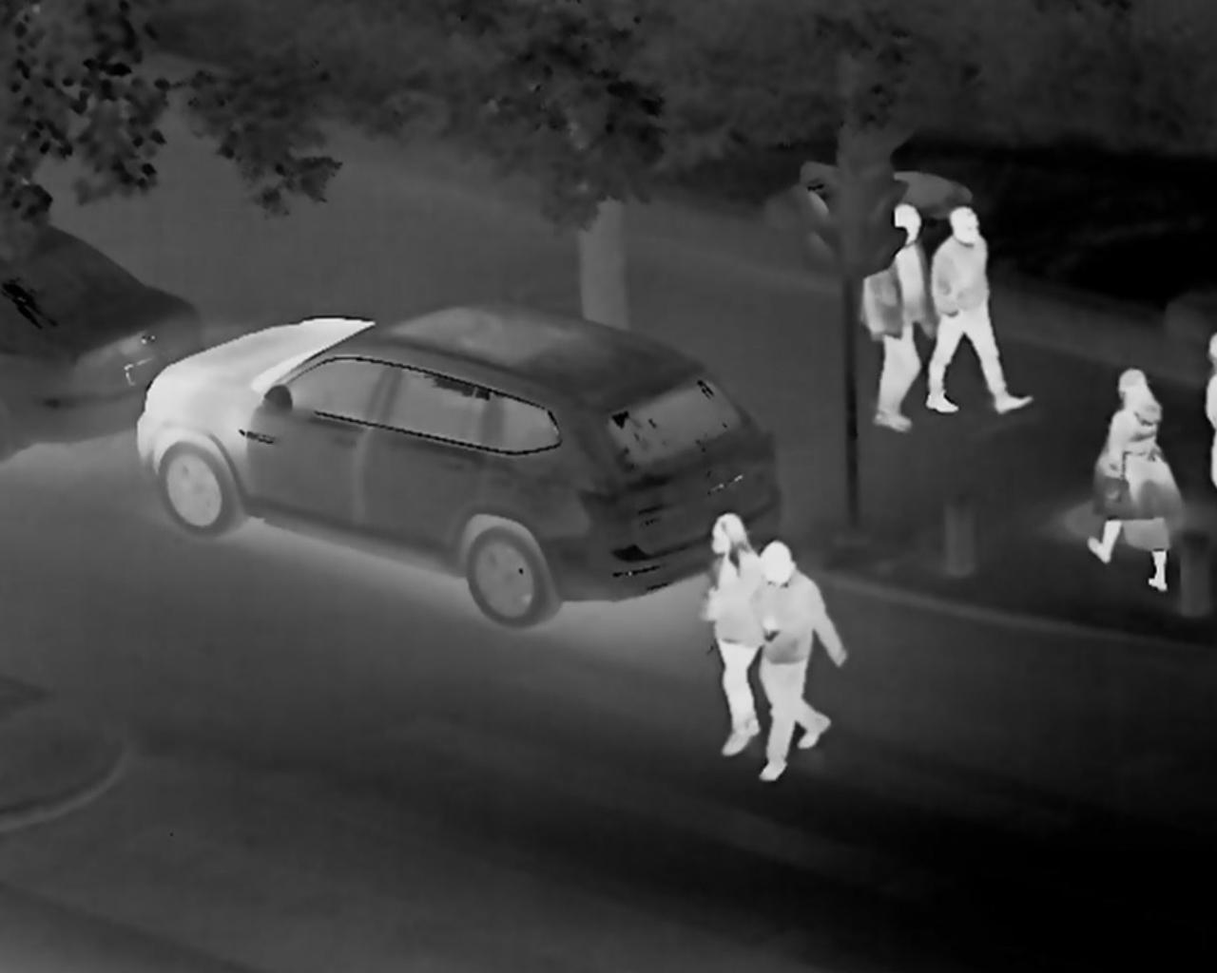person: (750, 534, 848, 782), (924, 200, 1035, 418), (1084, 359, 1179, 595), (859, 200, 933, 435), (704, 513, 764, 757)
